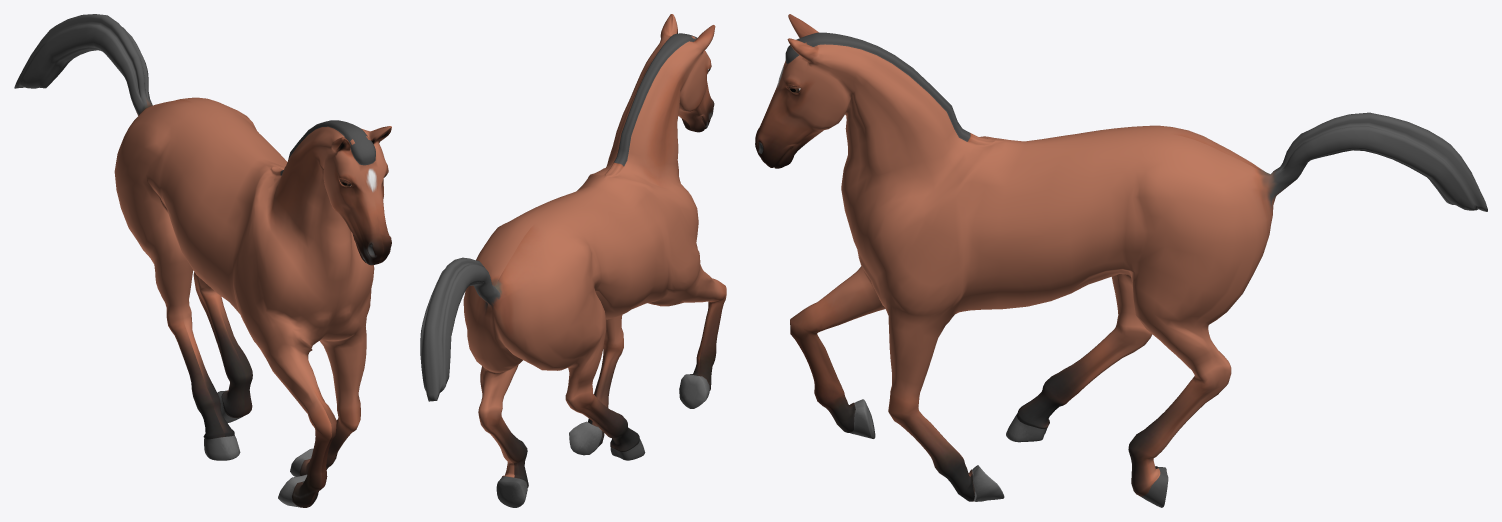
File: horse_obj_17.obj
3 renders of one model, left to right at view 1: azimuth 30°, elevation 25°; view 2: azimuth 150°, elevation 25°; view 3: azimuth 270°, elevation 25°, orthographic. The views are drawn at different scales.
Parts seen in each view (by area): view 1: Figure_1; view 2: Figure_1; view 3: Figure_1.
Part boxes in pixels (<box>): Figure_1: <box>14,14,391,507</box>; Figure_1: <box>420,14,726,507</box>; Figure_1: <box>755,14,1487,507</box>.
Size of the model in its own units: 0.2421 by 0.7962 by 1.14.
Materials: 7 (7 with a texture image).
